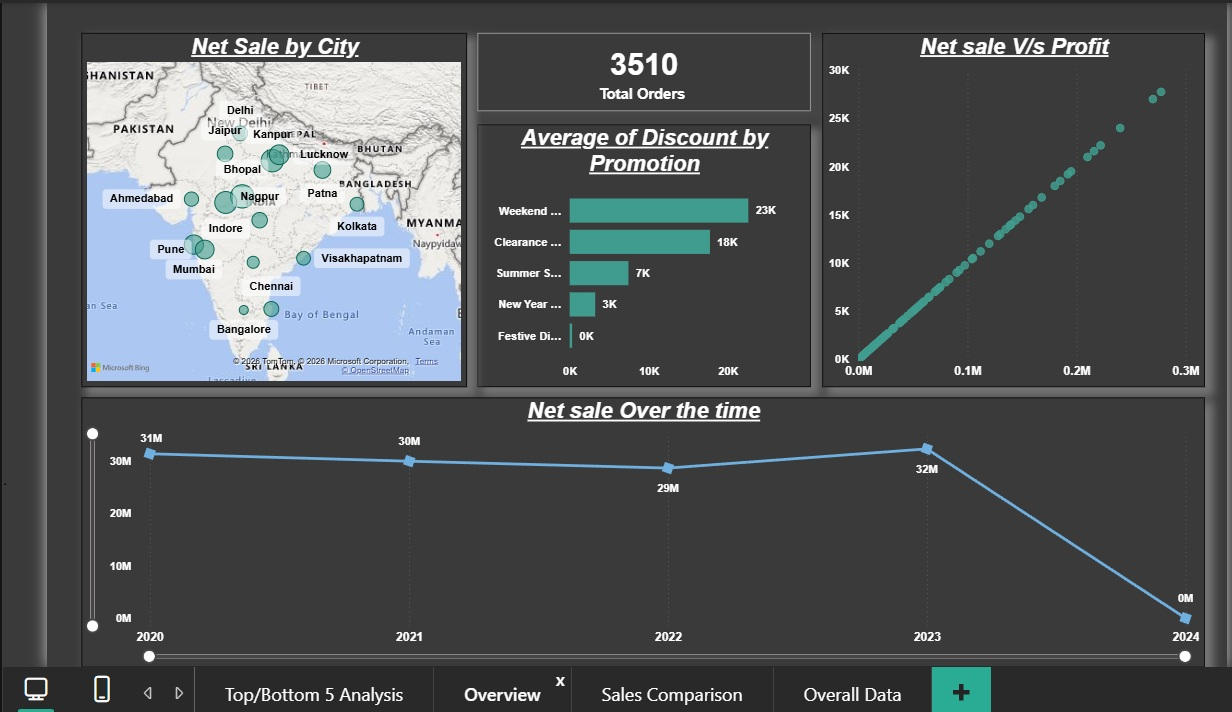

The page's visual inventory and layout, read from the dashboard file:
{"tool":"powerbi","page":{"name":"Overview ","canvas":[1280,720],"ordinal":1},"visuals":[{"type":"barChart","title":"Average of Discount by Promotion ","fields":{"Y":["Avg(Fact Data.Discount value )"],"Category":["Dim Promotion.Promotion Name"]},"box":[466.8,131.8,361.1,284.6],"z":0},{"type":"scatterChart","title":"Net sale V/s Profit","fields":{"Y":["Fact Data.Profit"],"X":["Fact Data.Net sale "]},"box":[840.9,32.5,414.8,383.9],"z":1000},{"type":"map","title":"Net Sale  by City","fields":{"Category":["Dim Customers.City"],"Size":["Sum(Fact Data.Net sale )"]},"box":[37.4,32.5,418,383.9],"z":2000},{"type":"card","fields":{"Values":["Count(Fact Data.Order ID)"]},"box":[466.8,32.5,361.1,84.6],"z":3000},{"type":"lineChart","title":"Net sale Over the time","fields":{"Y":["Sum(Fact Data.Net sale )"],"Category":["Fact Data.Date (dd/mm/yyyy) (bins)"]},"box":[37.4,427.8,1218.3,292.8],"z":4000}]}

Visuals, with their boxes on the page's 1280x720 design canvas (x1, y1, x2, y2). These are canvas units, not pixel positions in the 1232x712 screenshot, which may show the page scaled, cropped or inside an application window:
"Average of Discount by Promotion " barChart: select_region(467, 132, 828, 416)
"Net sale V/s Profit" scatterChart: select_region(841, 32, 1256, 416)
"Net Sale  by City" map: select_region(37, 32, 455, 416)
card - Count(Fact Data.Order ID): select_region(467, 32, 828, 117)
"Net sale Over the time" lineChart: select_region(37, 428, 1256, 721)
